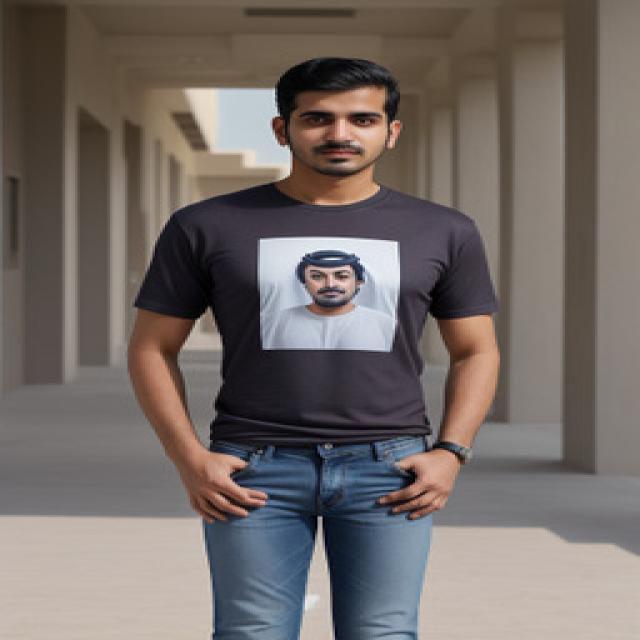Ai human 2: (107, 42, 519, 640)
